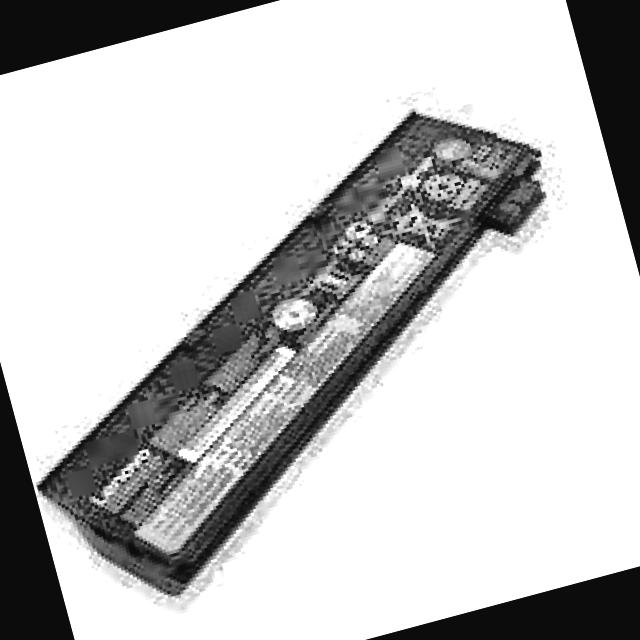Battery: (0, 92, 623, 618)
